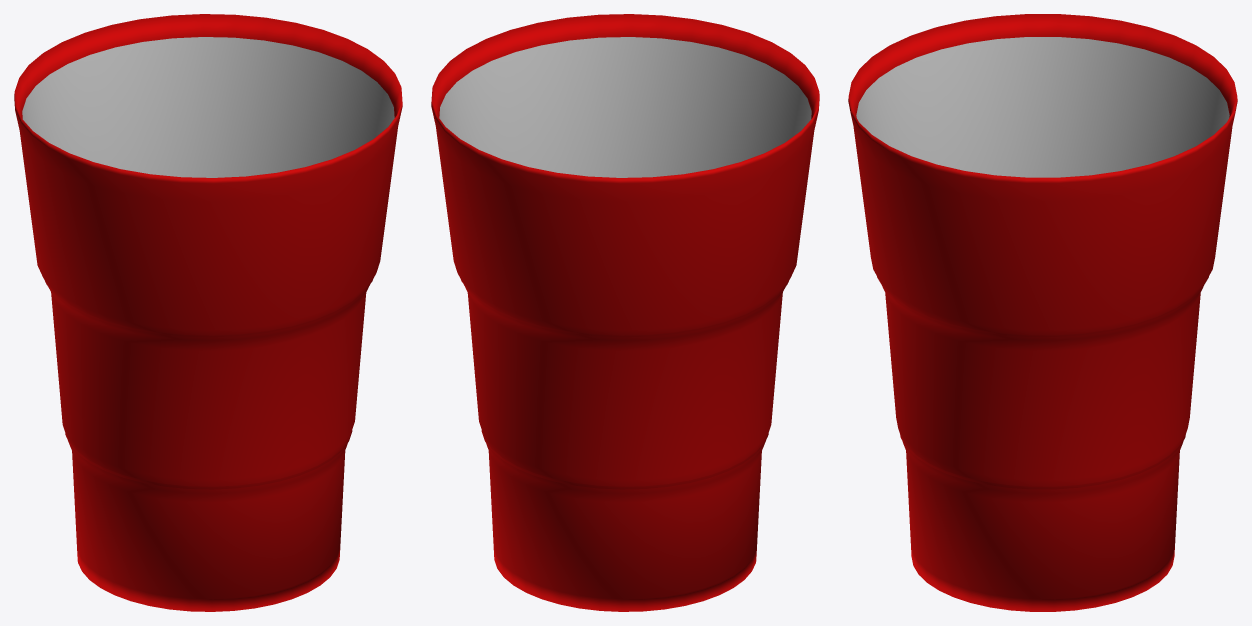
Rendered from redsolo_cup.obj.
3 views of the same model, side by side, from view 1: azimuth 30°, elevation 25°; view 2: azimuth 150°, elevation 25°; view 3: azimuth 270°, elevation 25° (orthographic).
Visible parts, largest first — view 1: Circle; view 2: Circle; view 3: Circle.
Boxes of the visible parts, x1=… form: Circle: x1=14, y1=14, x2=402, y2=611; Circle: x1=431, y1=14, x2=819, y2=611; Circle: x1=848, y1=14, x2=1237, y2=611.
Bounding box in the file's own units: 2.94 × 3.85 × 2.95.
